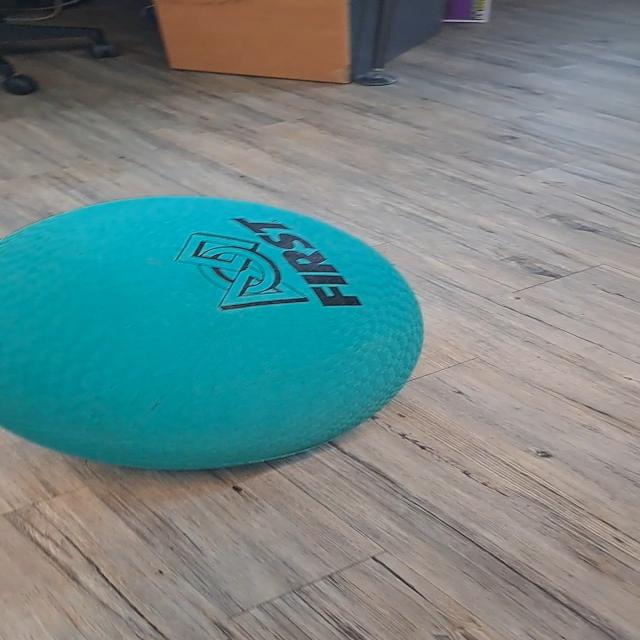ALGAE: (1, 194, 426, 472)
